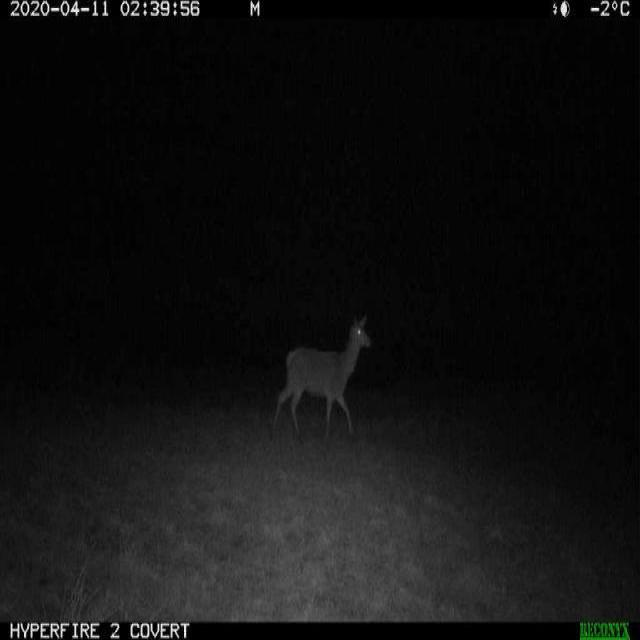deer: (274, 303, 378, 458)
